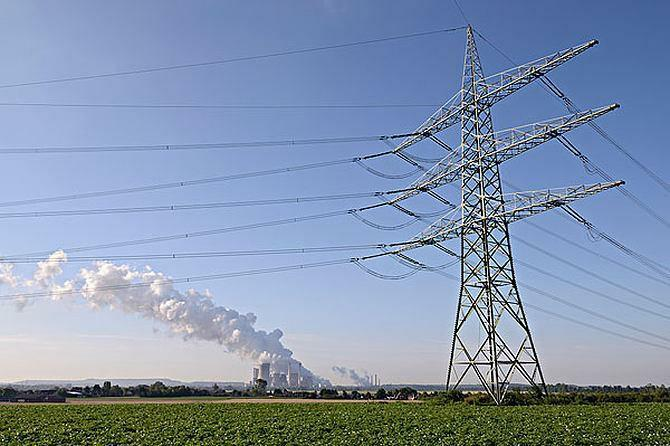power_tower: (353, 27, 596, 403)
